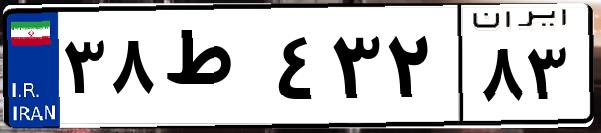2: (385, 28, 445, 110)
3: (330, 28, 385, 110), (57, 26, 110, 100), (525, 38, 570, 115)
4: (270, 28, 330, 110)
8: (475, 38, 525, 113), (110, 28, 158, 98)
ط: (158, 20, 270, 120)
